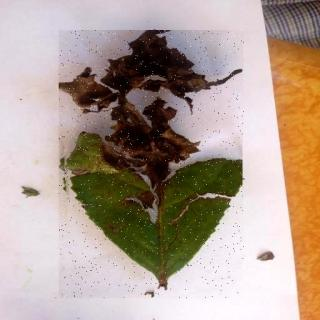Brown Blight: (60, 31, 245, 299)
